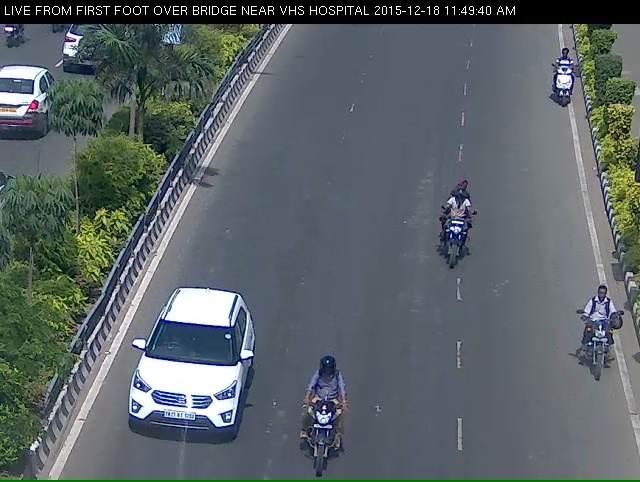Car: (119, 311, 230, 478)
Person: (575, 297, 624, 404), (292, 392, 346, 479), (436, 190, 477, 291), (552, 50, 578, 118)
